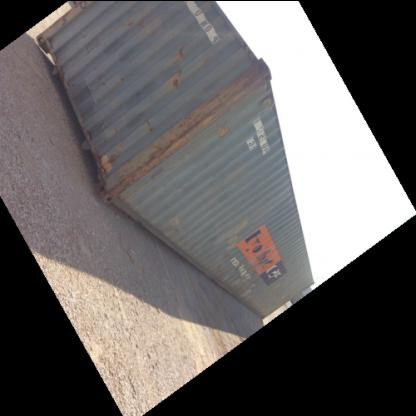Damage: (160, 117, 208, 155), (212, 76, 260, 110), (170, 208, 194, 242), (230, 274, 262, 298), (96, 147, 126, 168), (167, 68, 188, 90), (175, 39, 193, 59), (144, 112, 158, 132), (256, 251, 274, 264)
